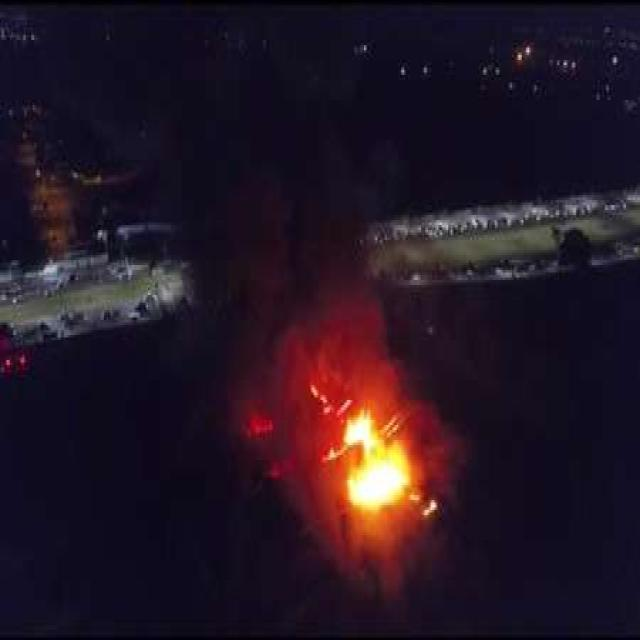Fire: (346, 403, 414, 512)
